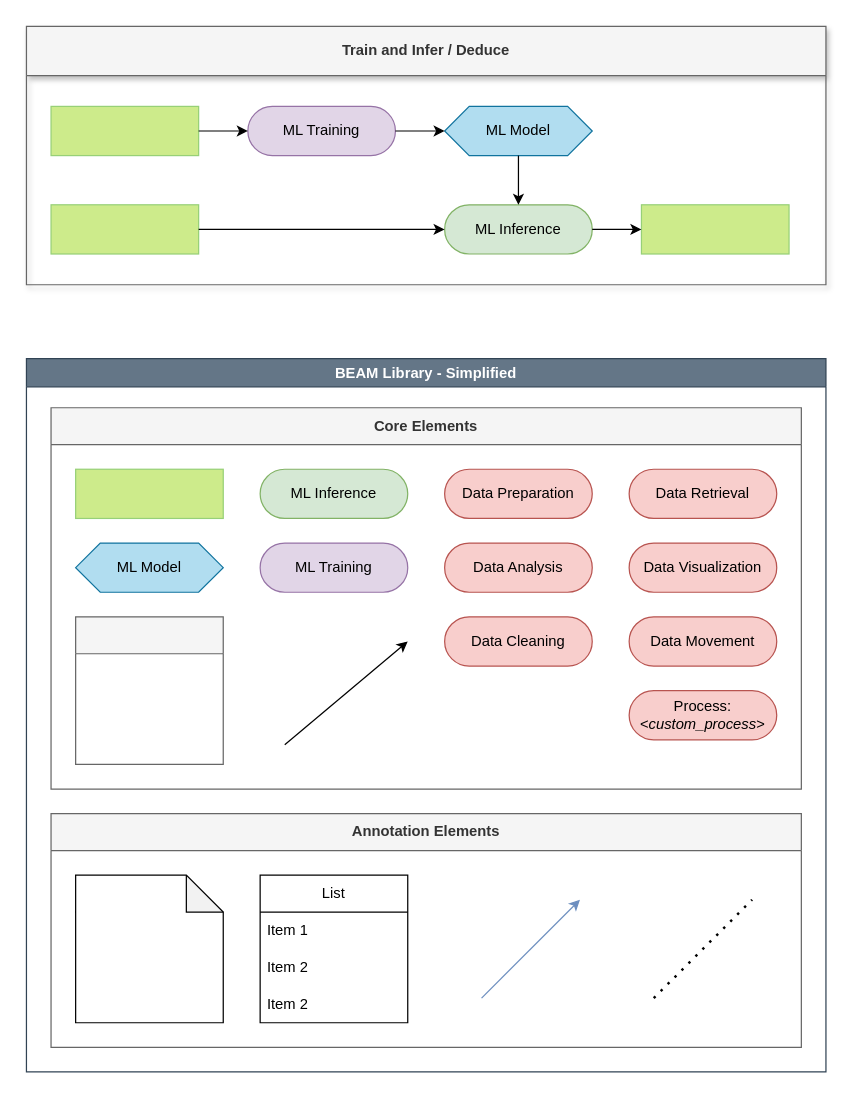
Some shapes in this 855 by 1093 pixel diagram are drawn without their labels. The centre of each missing label's shape, as x and y in pixels:
"Data" goes at (x=148, y=493).
"Detected Image Classification" goes at (x=714, y=229).
"Image Evaluation Dataset" goes at (x=124, y=229).
"Image Training Dataset" goes at (x=124, y=130).
"Note" goes at (x=148, y=948).
"System Container" goes at (x=148, y=690).
